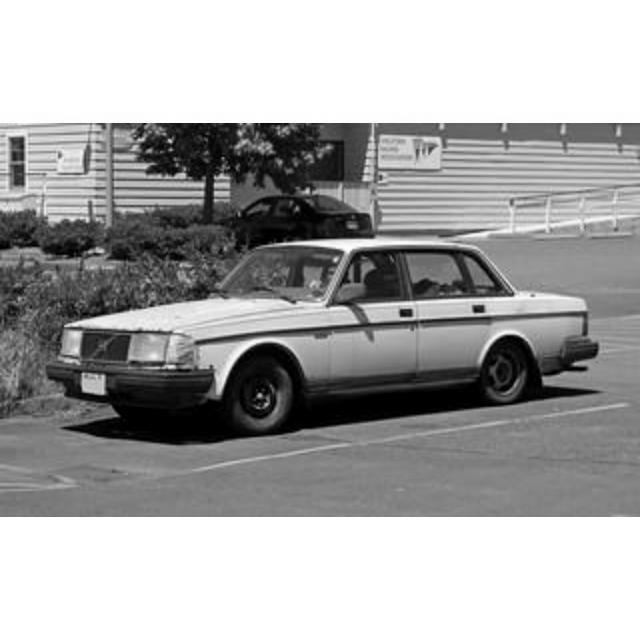Front-windscreen-damage: (214, 243, 366, 301)
